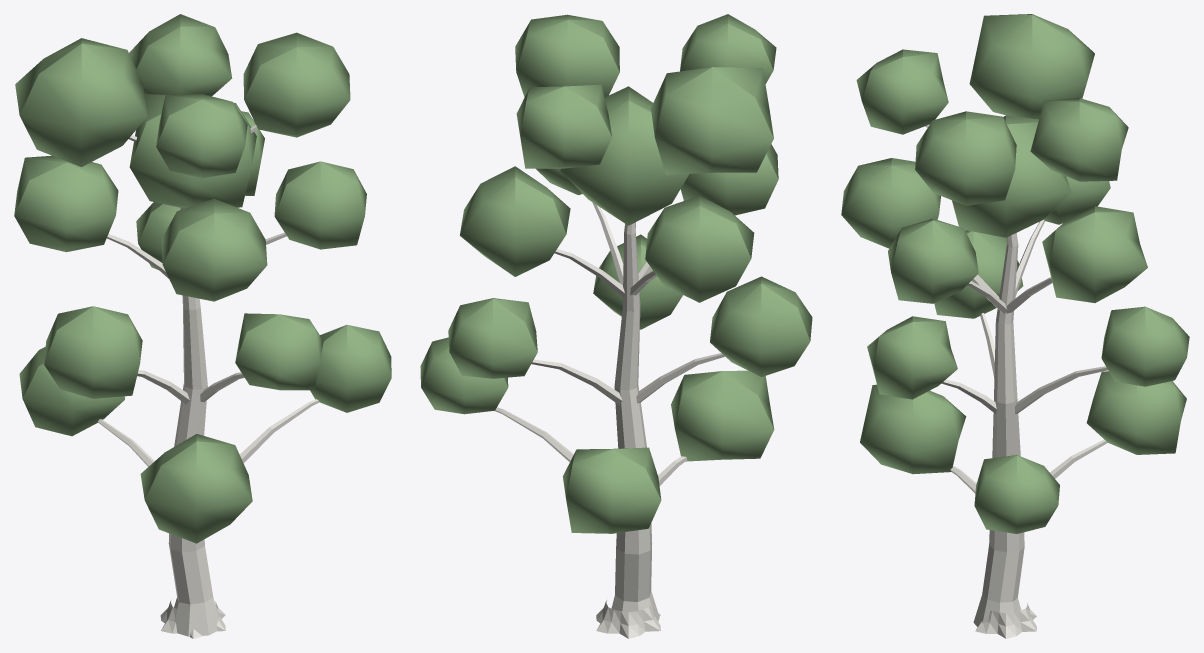
The model's file is dense-temperate-forest-flora-hornbeam-old-7a55c05c__28340.glb.
The picture shows the model from 3 angles, left to right: view 1: azimuth 30°, elevation 25°; view 2: azimuth 150°, elevation 25°; view 3: azimuth 270°, elevation 25°; orthographic projection. The views are drawn at different scales.
Parts seen in each view (by area): view 1: hornbeam-old; view 2: hornbeam-old; view 3: hornbeam-old.
Boxes of the visible parts, left/top/right/bottom form: hornbeam-old: left=14, top=14, right=391, bottom=638; hornbeam-old: left=420, top=14, right=812, bottom=638; hornbeam-old: left=841, top=14, right=1189, bottom=638.
Size of the model in its own units: 10.69 by 16.4 by 9.18.
